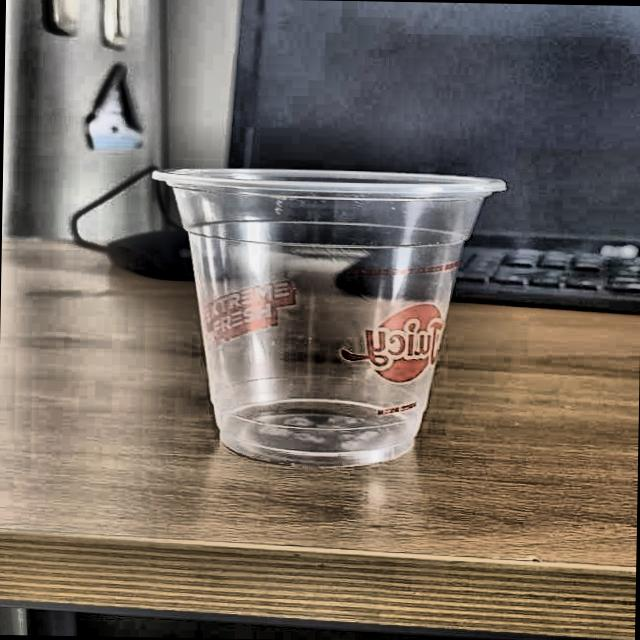plastic cup: (140, 165, 510, 467)
